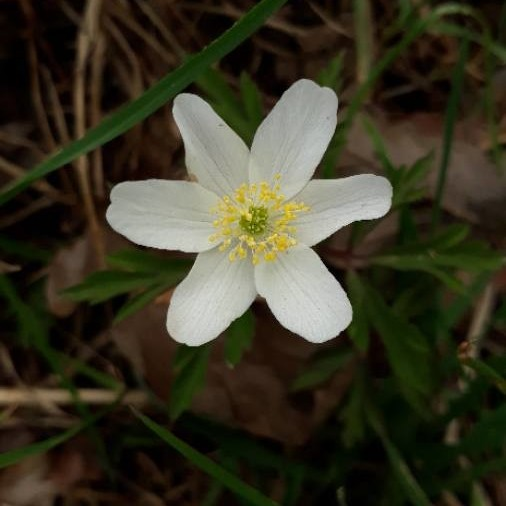obstacle: (97, 77, 397, 355)
